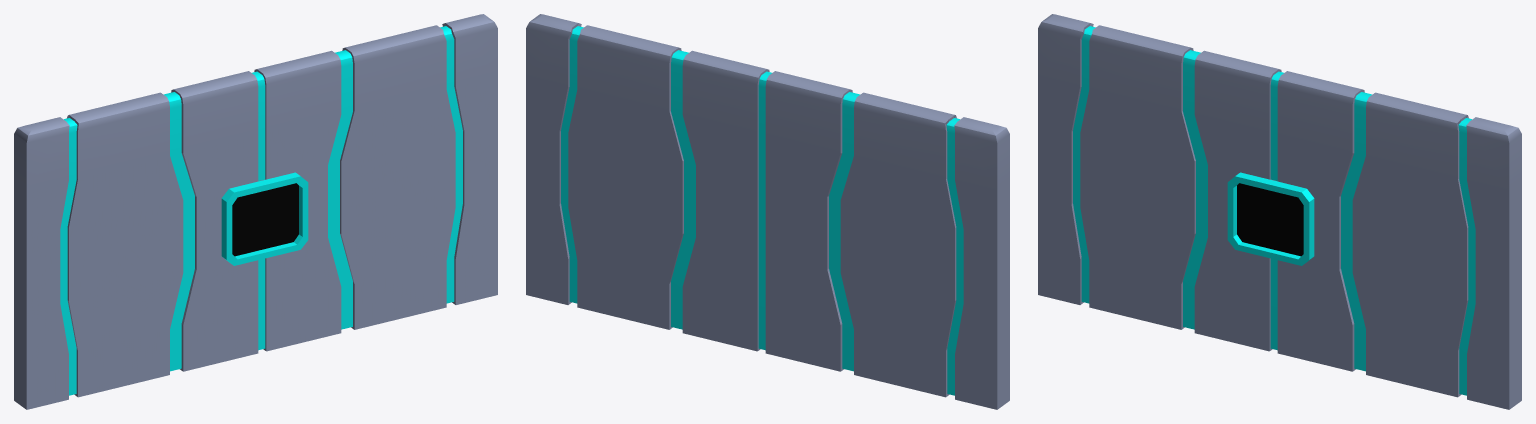
The model's file is Door.fbx.
3 views of the same model, side by side, from view 1: azimuth 30°, elevation 25°; view 2: azimuth 150°, elevation 25°; view 3: azimuth 330°, elevation 25° (orthographic).
Visible parts, largest first — view 1: Door, Glow; view 2: Door, Glow; view 3: Door, Glow.
Boxes of the visible parts, x1,y1,x2,y2 form: Door: (14,14,497,409); Glow: (60,26,462,395); Door: (526,14,1009,409); Glow: (561,26,963,395); Door: (1038,14,1521,409); Glow: (1073,26,1475,395).
Size of the model in its own units: 1074 by 600 by 70.54.
